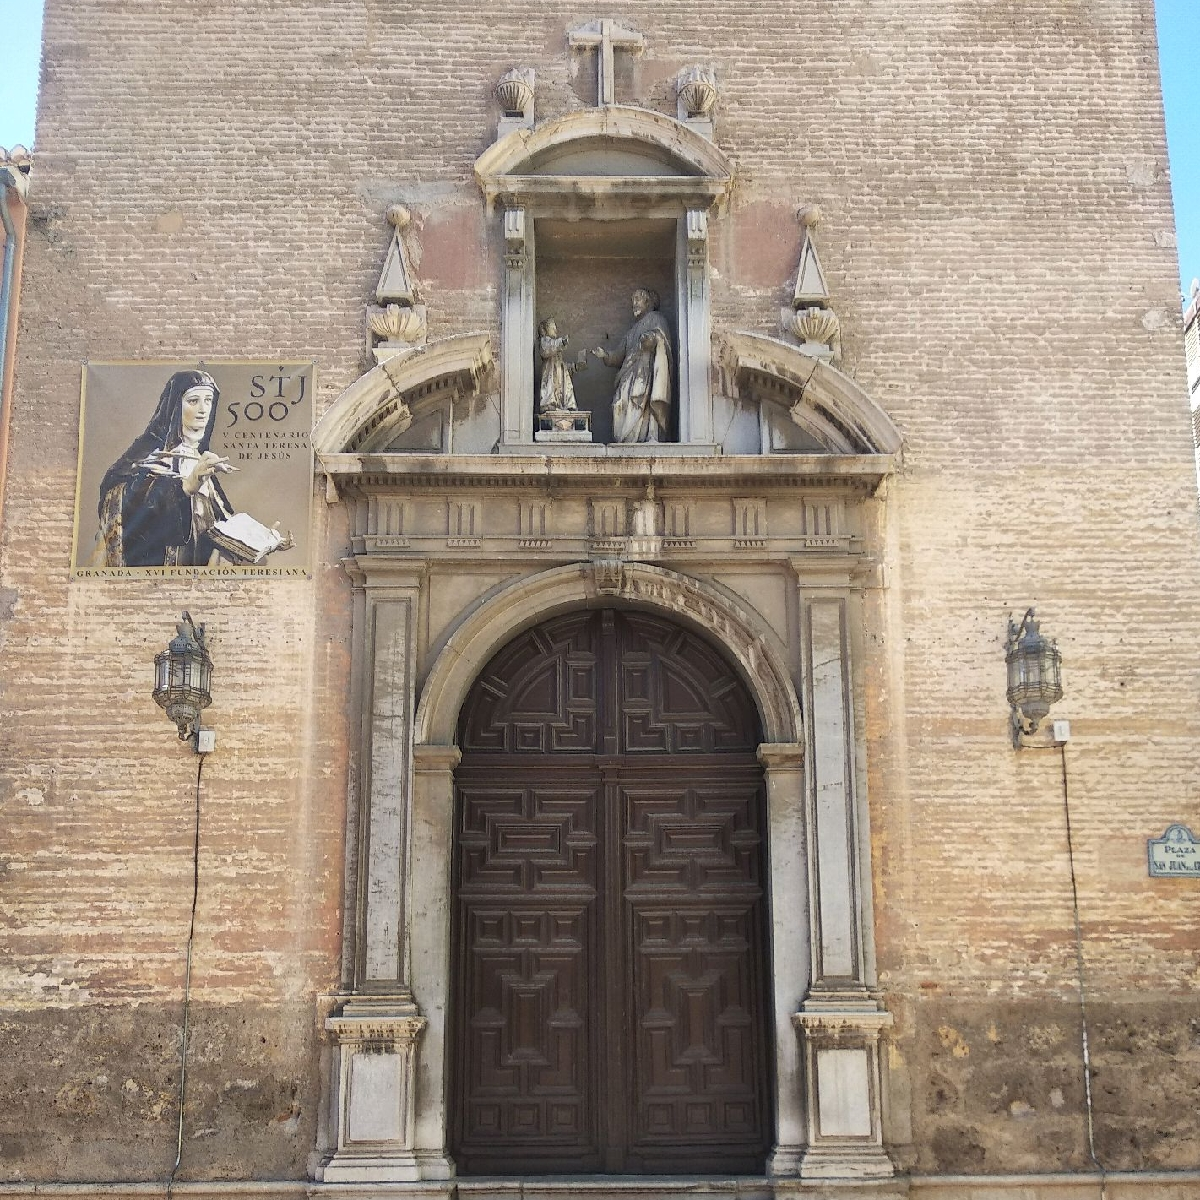arco-medio-punto: (436, 582, 782, 799)
fronton-curvo: (478, 104, 748, 202)
fronton-partido: (298, 330, 905, 489)
vano-adintelado: (500, 190, 718, 444)
